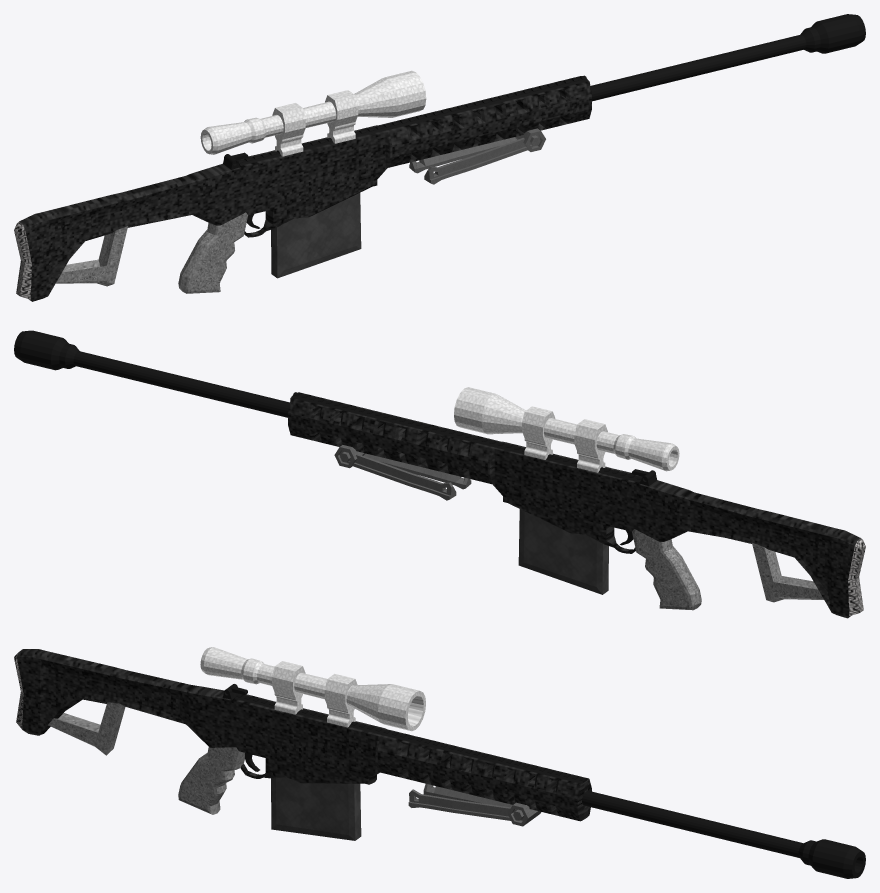
Rendered from Sniper Rifle V1.fbx.
3 renders of one model, top to bottom at view 1: azimuth 30°, elevation 25°; view 2: azimuth 150°, elevation 25°; view 3: azimuth 330°, elevation 25°, orthographic.
Parts seen in each view (by area): view 1: Sniper Bake; view 2: Sniper Bake; view 3: Sniper Bake.
Boxes of the visible parts, x1,y1,x2,y2 form: Sniper Bake: (14, 14, 865, 301); Sniper Bake: (14, 330, 865, 618); Sniper Bake: (14, 647, 865, 878).
Bounding box in the file's own units: 12621 × 2427 × 564.
Materials: 1 (1 with a texture image).
